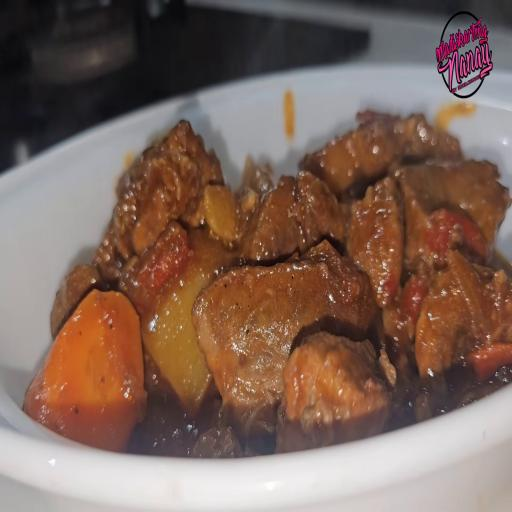pork caldereta: (23, 104, 512, 406)
